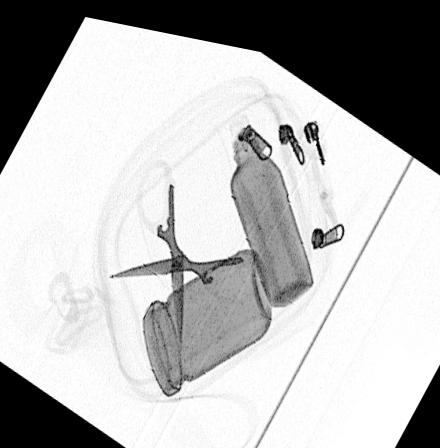Scissors: (104, 149, 271, 344)
